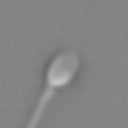normal: (21, 85, 54, 128)
